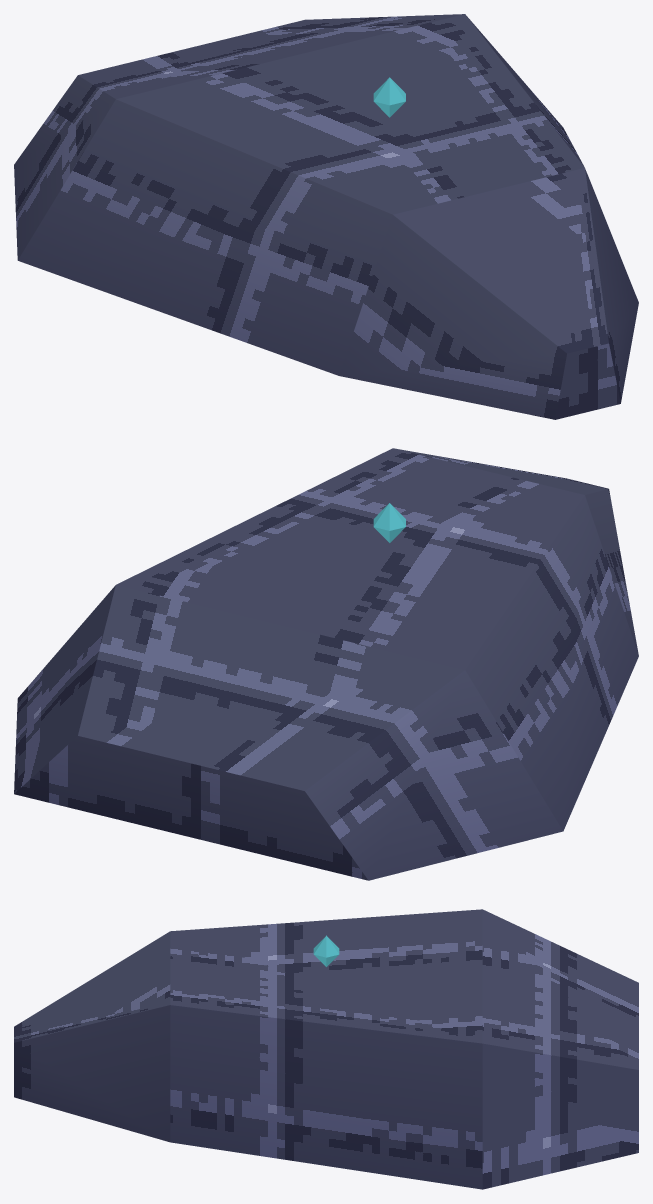
File: cysky.courier.glb
3 views of the same model, one above another, from view 1: azimuth 30°, elevation 25°; view 2: azimuth 150°, elevation 25°; view 3: azimuth 270°, elevation 25° (orthographic). The views are drawn at different scales.
Parts seen in each view (by area): view 1: kit_body, kit_beacons; view 2: kit_body, kit_beacons; view 3: kit_body, kit_beacons.
Boxes of the visible parts, box(x1,y1,x2,y2) form: kit_body: box(14, 14, 638, 419); kit_beacons: box(373, 77, 405, 117); kit_body: box(14, 448, 638, 880); kit_beacons: box(373, 503, 405, 542); kit_body: box(14, 909, 638, 1189); kit_beacons: box(313, 935, 339, 966).
Size of the model in its own units: 2.7 by 0.896 by 3.4.
Materials: 2 (2 with a texture image).
